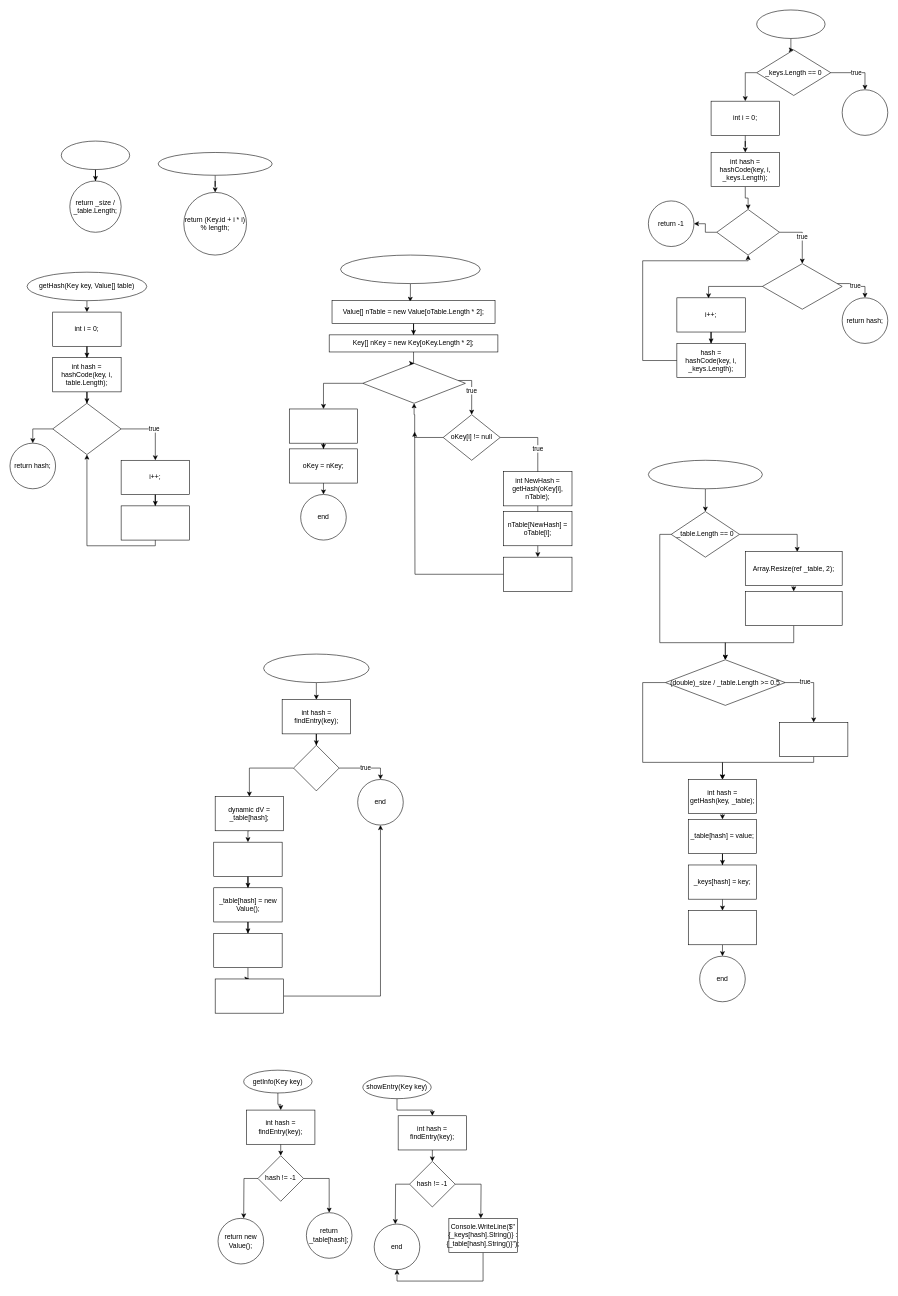
Some shapes in this 898 by 1296 pixel diagram are drawn without their labels. The shapes that lost their labels are listed below. From the top down, each one's centre as x and y in pixels, then its label:
At (790,23): "findEntry ( Key key )".
At (865,112): "return - 1 ;".
At (95,155): "getLoadness ()".
At (215,163): "hashCode ( Key Key , int i , int length )".
At (747,232): "i < _keys . Length".
At (410,269): "rehashing ( ref Value [] oTable , ref Key [] oKey )".
At (802,286): "_keys [ hash ]. id == key . id".
At (413,383): "int i = 0 ; i < oKey . Length ; i ++".
At (86,429): "table [ hash ] != null".
At (323,425): "oTable = nTable ;".
At (705,474): "insertEntry ( Key key , Value value )".
At (155,522): "hash = hashCode ( key , i , table . Length );".
At (537,574): "nKey [ NewHash ] = oKey [ i ];".
At (793,608): "Array . Resize ( ref _keys , 2 );".
At (316,668): "removeEntry ( Key key )".
At (813,739): "rehashing ( ref _table , ref _keys );".
At (316,768): "hash == - 1".
At (247,859): "dynamic dK = _keys [ hash ];".
At (722,927): "_size ++ ;".
At (247,950): "_keys [ hash ] = new Key ();".
At (249,995): "_size -- ;".
